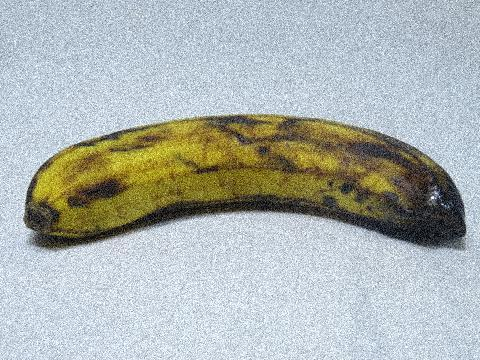overripe: (10, 93, 479, 276)
rotten: (354, 137, 471, 243)
